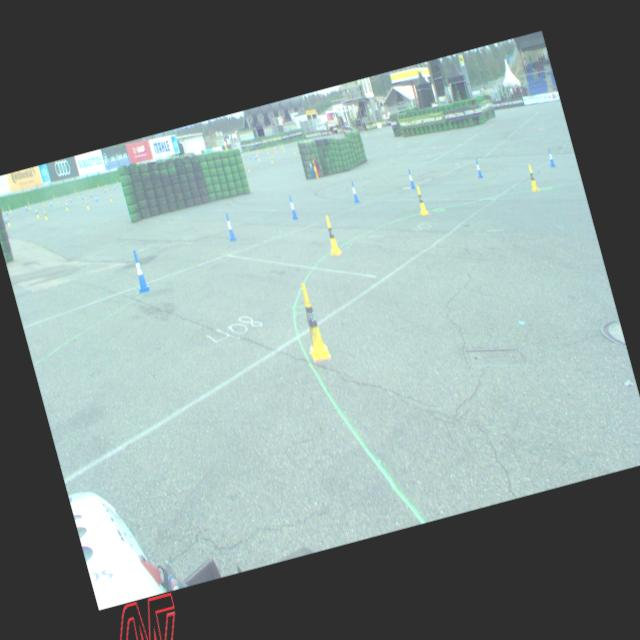blue_cone: (128, 248, 152, 294), (222, 212, 236, 242), (286, 194, 298, 220), (348, 180, 359, 203), (406, 169, 416, 189), (473, 158, 482, 178), (546, 147, 555, 167), (2, 214, 8, 223), (94, 193, 98, 202)
yellow_cone: (292, 281, 331, 361), (321, 213, 342, 256), (413, 184, 428, 216), (526, 164, 538, 191), (43, 210, 48, 220), (35, 208, 39, 218), (6, 217, 10, 226), (85, 200, 89, 209), (64, 202, 68, 210), (109, 193, 112, 201)
